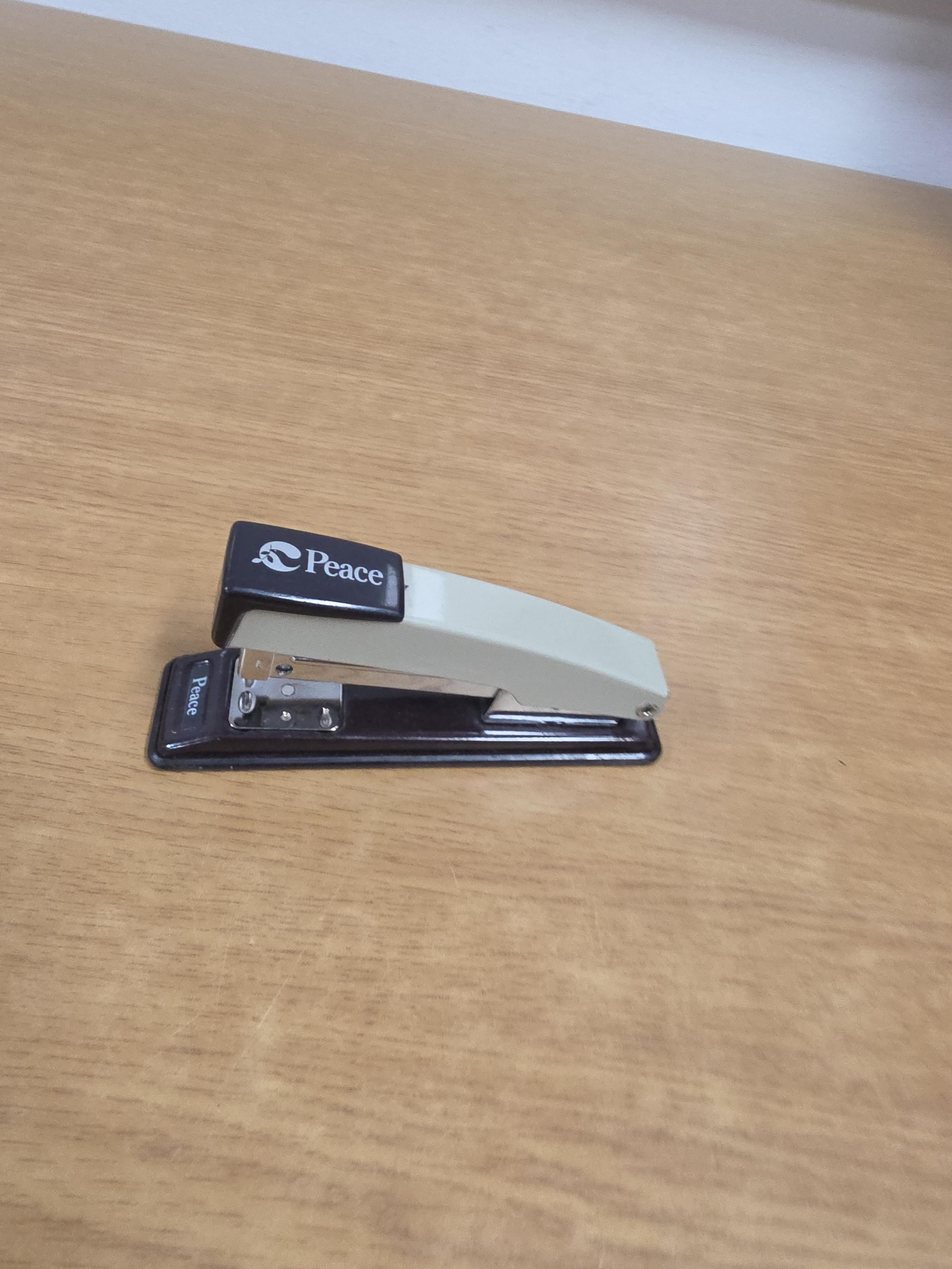stapler: (146, 520, 671, 772)
